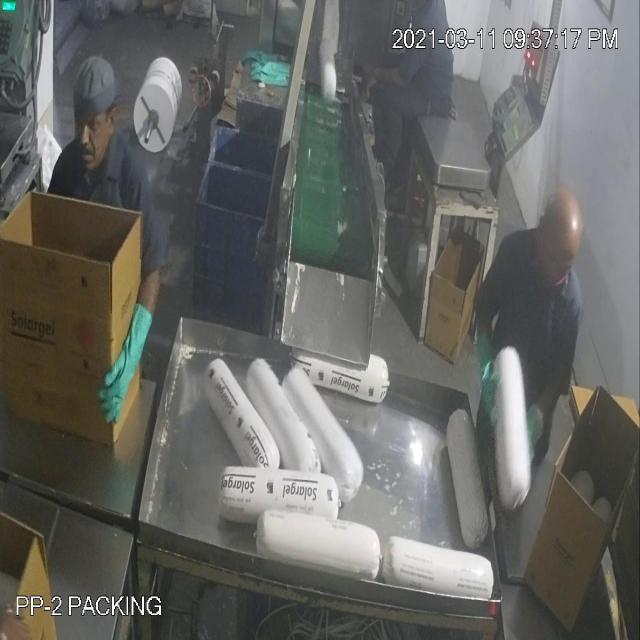No_Gloves: (52, 41, 387, 364)
